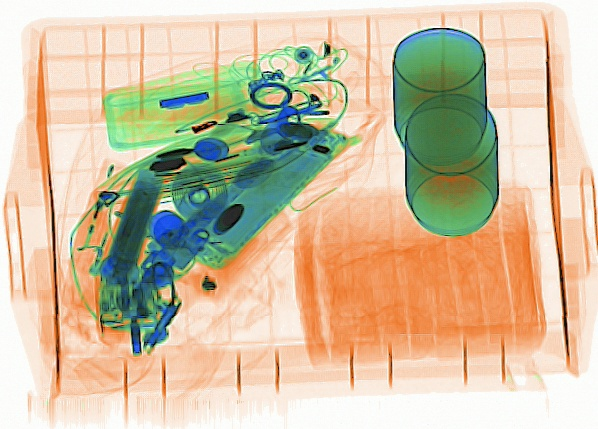lighter: (65, 156, 132, 273)
